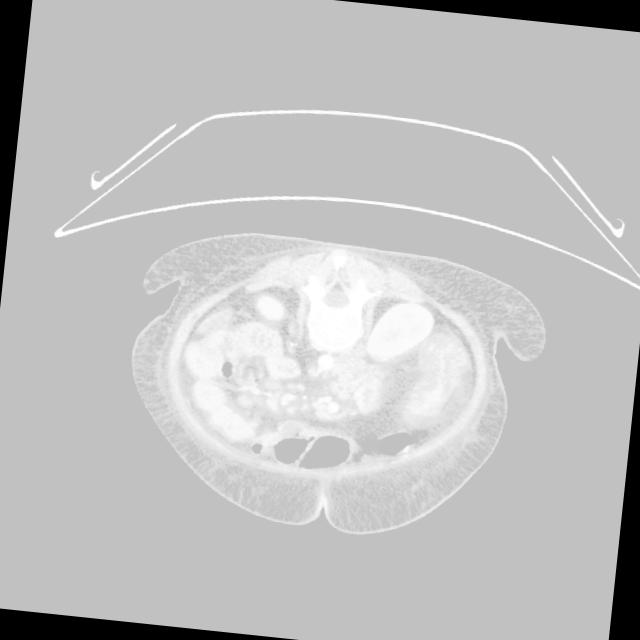NORMAL: (115, 210, 549, 557)
